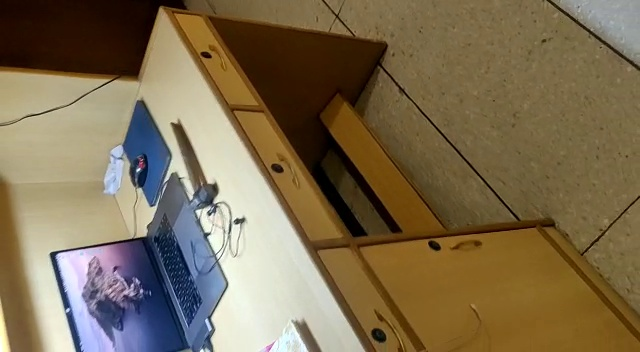hammer: (170, 121, 218, 213)
